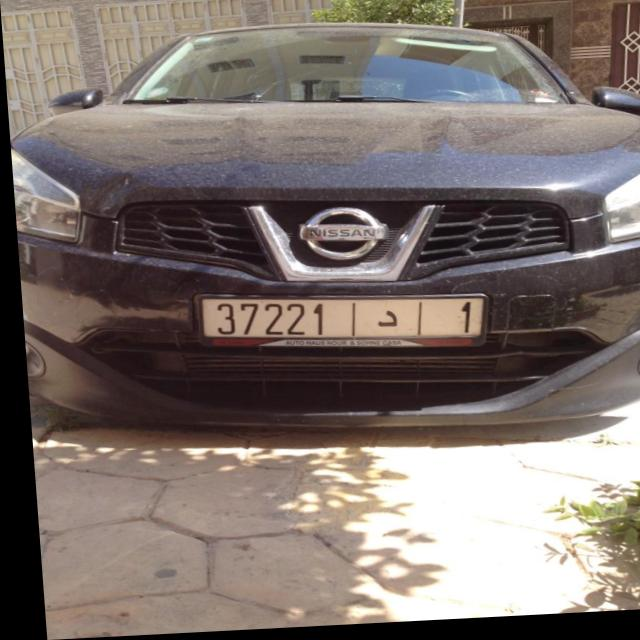License-Plate: (197, 301, 477, 342)
